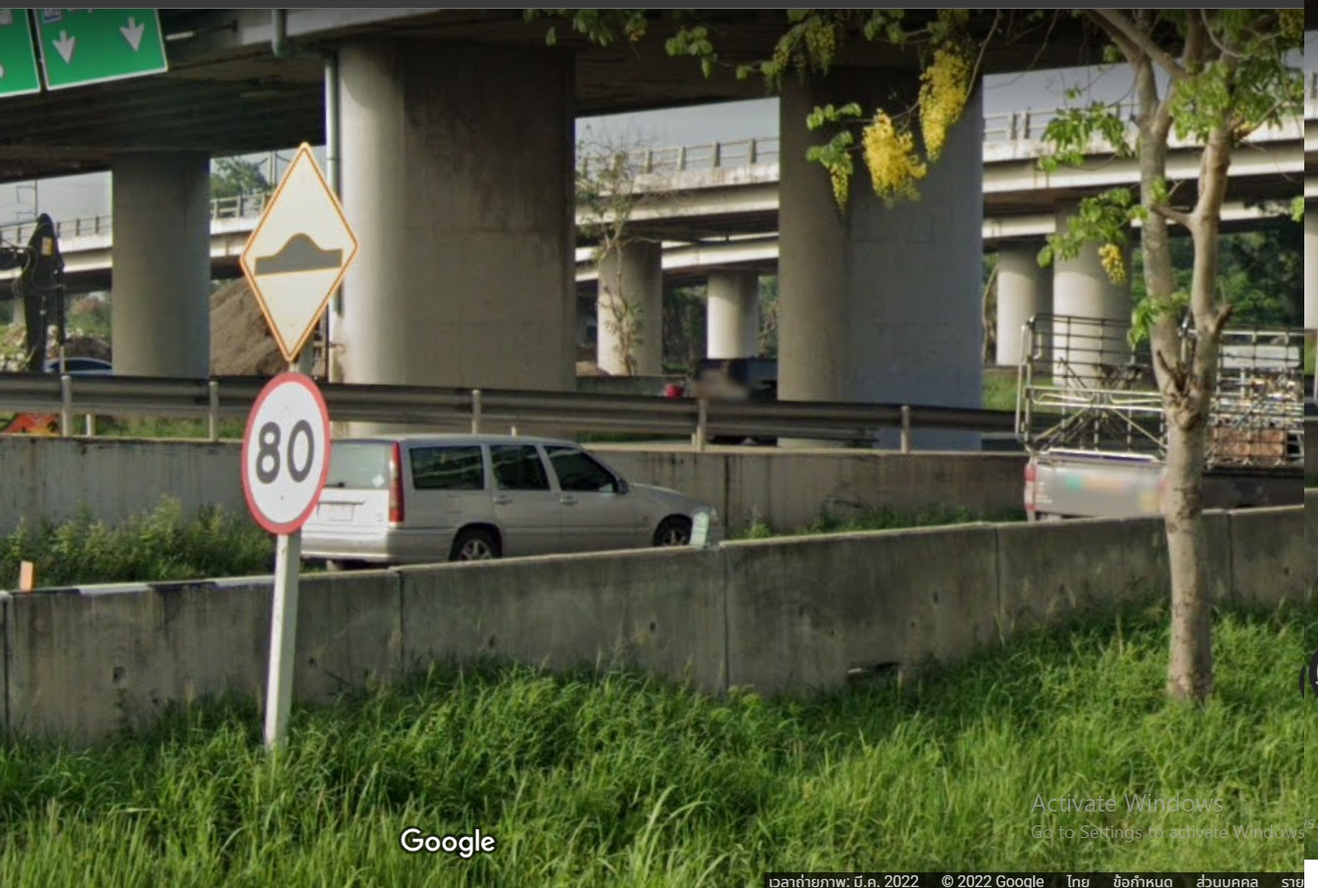80KPH: (238, 360, 334, 536)
